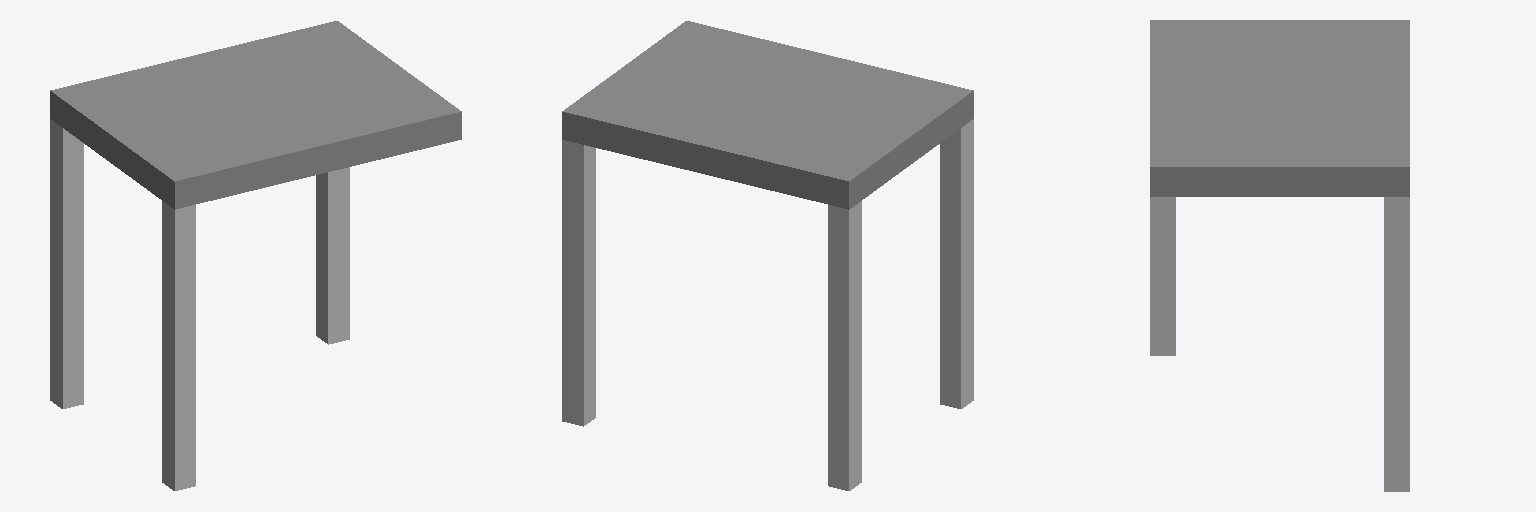
URDF robot description (plane):
<?xml version="1.0" ?>
<robot name="plane">

    <link name="link_plane">
        <contact>
            <lateral_friction value="1"/>
        </contact>

        <inertial>
            <origin rpy="0 0 0" xyz="0 0 0"/>
            <mass value=".0"/>
            <inertia ixx="0" ixy="0" ixz="0" iyy="0" iyz="0" izz="0"/>
        </inertial>
            
        <visual>
            <origin rpy="0 0 0" xyz="0 0 0"/>
            <geometry>
                <mesh filename="mesh/low_table/link_plane.obj"/>
                <!-- <box size="0.8 0.6 0.075"/> -->
            </geometry>
            <material name="table_gray"/>
        </visual>

        <collision>
            <origin rpy="0 0 0" xyz="0 0 0"/>
            <geometry>
                <mesh filename="mesh/low_table/link_plane.obj"/>
                <!-- <box size="0.8 0.6 0.075"/> -->
            </geometry>
        </collision>
        
    </link>

    <link name="link_leg1">
        <contact>
            <lateral_friction value="1"/>
        </contact>

        <inertial>
            <origin rpy="0 0 0" xyz="0 0 0"/>
            <mass value=".0"/>
            <inertia ixx="0" ixy="0" ixz="0" iyy="0" iyz="0" izz="0"/>
        </inertial>
            
        <visual>
            <origin rpy="0 0 0" xyz="0 0 0"/>
            <geometry>
                <mesh filename="mesh/low_table/link_leg1.obj"/>
                <!-- <box size="0.06 0.06 0.75"/> -->
            </geometry>
            <material name="leg_gray"/>
        </visual>

        <collision>
            <origin rpy="0 0 0" xyz="0 0 0"/>
            <geometry>
                <mesh filename="mesh/low_table/link_leg1.obj"/>
                <!-- <box size="0.06 0.06 0.75"/> -->
            </geometry>
        </collision>
        
    </link>

    <link name="link_leg2">
        <contact>
            <lateral_friction value="1"/>
        </contact>

        <inertial>
            <origin rpy="0 0 0" xyz="0 0 0"/>
            <mass value=".0"/>
            <inertia ixx="0" ixy="0" ixz="0" iyy="0" iyz="0" izz="0"/>
        </inertial>
            
        <visual>
            <origin rpy="0 0 0" xyz="0 0 0"/>
            <geometry>
                <mesh filename="mesh/low_table/link_leg2.obj"/>
                <!-- <box size="0.06 0.06 0.75"/> -->
            </geometry>
            <material name="leg_gray"/>
        </visual>

        <collision>
            <origin rpy="0 0 0" xyz="0 0 0"/>
            <geometry>
                <mesh filename="mesh/low_table/link_leg2.obj"/>
                <!-- <box size="0.06 0.06 0.75"/> -->
            </geometry>
        </collision>
        
    </link>

    <link name="link_leg3">
        <contact>
            <lateral_friction value="1"/>
        </contact>

        <inertial>
            <origin rpy="0 0 0" xyz="0 0 0"/>
            <mass value=".0"/>
            <inertia ixx="0" ixy="0" ixz="0" iyy="0" iyz="0" izz="0"/>
        </inertial>
            
        <visual>
            <origin rpy="0 0 0" xyz="0 0 0"/>
            <geometry>
                <mesh filename="mesh/low_table/link_leg3.obj"/>
                <!-- <box size="0.06 0.06 0.75"/> -->
            </geometry>
            <material name="leg_gray"/>
        </visual>

        <collision>
            <origin rpy="0 0 0" xyz="0 0 0"/>
            <geometry>
                <mesh filename="mesh/low_table/link_leg3.obj"/>
                <!-- <box size="0.06 0.06 0.75"/> -->
            </geometry>
        </collision>
        
    </link>

    <link name="link_leg4">
        <contact>
            <lateral_friction value="1"/>
        </contact>

        <inertial>
            <origin rpy="0 0 0" xyz="0 0 0"/>
            <mass value=".0"/>
            <inertia ixx="0" ixy="0" ixz="0" iyy="0" iyz="0" izz="0"/>
        </inertial>
            
        <visual>
            <origin rpy="0 0 0" xyz="0 0 0"/>
            <geometry>
                <mesh filename="mesh/low_table/link_leg4.obj"/>
                <!-- <box size="0.06 0.06 0.75"/> -->
            </geometry>
            <material name="leg_gray"/>
        </visual>

        <collision>
            <origin rpy="0 0 0" xyz="0 0 0"/>
            <geometry>
                <mesh filename="mesh/low_table/link_leg4.obj"/>
                <!-- <box size="0.06 0.06 0.75"/> -->
            </geometry>
        </collision>
        
    </link>

    <joint name="fixed_joint1" type="fixed">
        <parent link="link_plane"/>
        <child link="link_leg1"/>
        <origin rpy="0 0 0.0" xyz="0.37 0.27 -0.4125"/>
    </joint>

    <joint name="fixed_joint2" type="fixed">
        <parent link="link_plane"/>
        <child link="link_leg2"/>
        <origin rpy="0 0 0.0" xyz="-0.37 0.27 -0.4125"/>
    </joint>

    <joint name="fixed_joint3" type="fixed">
        <parent link="link_plane"/>
        <child link="link_leg3"/>
        <origin rpy="0 0 0.0" xyz="0.37 -0.27 -0.4125"/>
    </joint>

    <joint name="fixed_joint4" type="fixed">
        <parent link="link_plane"/>
        <child link="link_leg4"/>
        <origin rpy="0 0 0.0" xyz="-0.37 -0.27 -0.4125"/>
    </joint>

    <material name="table_gray">
        <color rgba=".6 .6 .6 0.7"/>
    </material>

    <material name="leg_gray">
        <color rgba=".8 .8 .8 0.7"/>
    </material>

</robot>

--- What the picture shows (computed from the rendered views, not written in the file) ---
3 views of the same robot in one strip: view 1: azimuth 30°, elevation 25°; view 2: azimuth 150°, elevation 25°; view 3: azimuth 270°, elevation 25° (orthographic).
Model plane with 5 links and 4 joints (4 fixed), rooted at link_plane, posed every joint at zero.
Links seen in each view (by area): view 1: link_plane, link_leg4, link_leg2, link_leg1; view 2: link_plane, link_leg2, link_leg1, link_leg4; view 3: link_plane, link_leg1, link_leg4.
Boxes of the visible links, x1,y1,x2,y2 form: link_plane: [50, 21, 461, 209]; link_leg4: [162, 201, 195, 490]; link_leg2: [50, 119, 83, 408]; link_leg1: [316, 167, 349, 344]; link_plane: [562, 21, 973, 209]; link_leg2: [828, 201, 861, 490]; link_leg1: [562, 140, 595, 426]; link_leg4: [940, 119, 973, 408]; link_plane: [1150, 20, 1409, 196]; link_leg1: [1384, 197, 1409, 491]; link_leg4: [1150, 197, 1175, 355].
Size in the robot's own frame: 0.8 by 0.6 by 0.825 metres.
4 mesh visuals loaded from 5 distinct referenced files (4 OBJ); not drawn: 1 (reference not matched to a file when rendering).